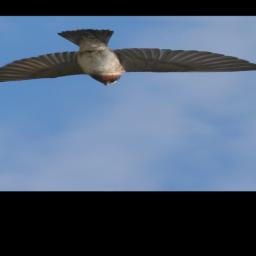Swallow: (0, 25, 256, 93)
